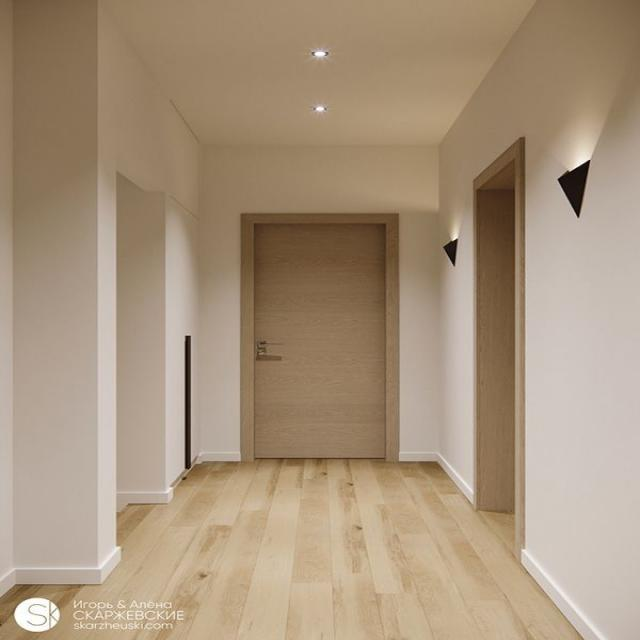door: (247, 216, 391, 459)
